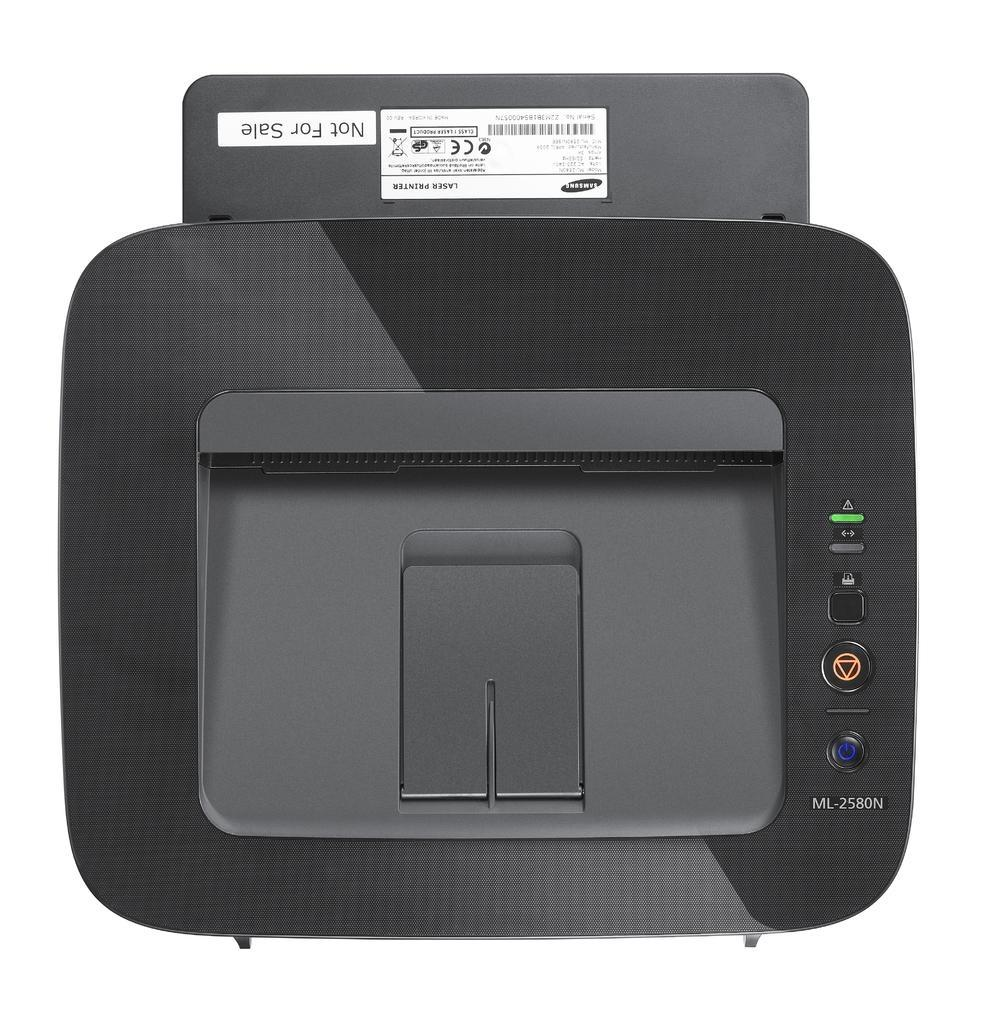Printer: (59, 70, 915, 948)
